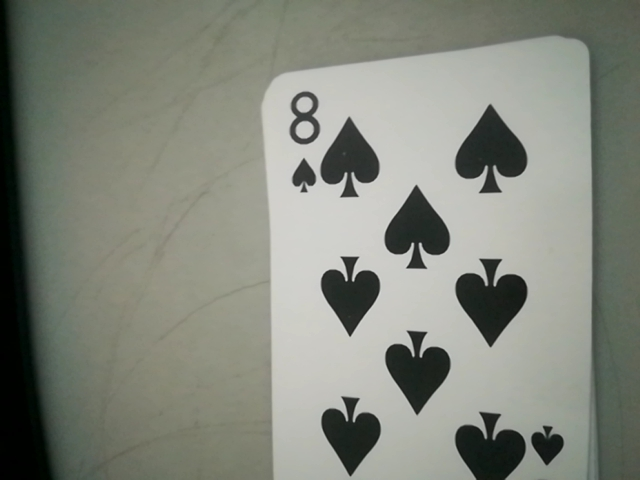ht 8: (275, 83, 339, 197)
